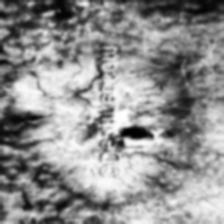Potentially Malignant Skin Tumors: (119, 110, 158, 150)
